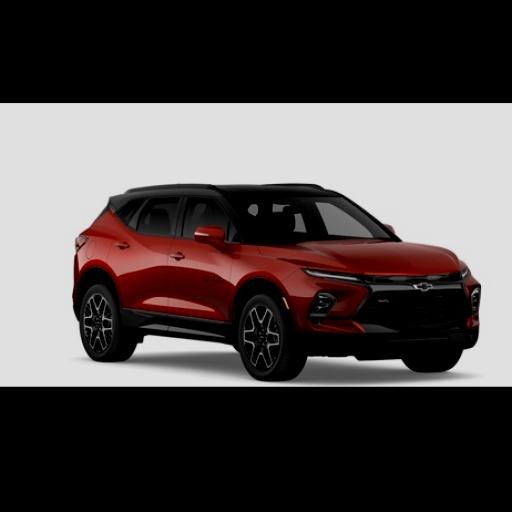suv: (75, 184, 482, 379)
